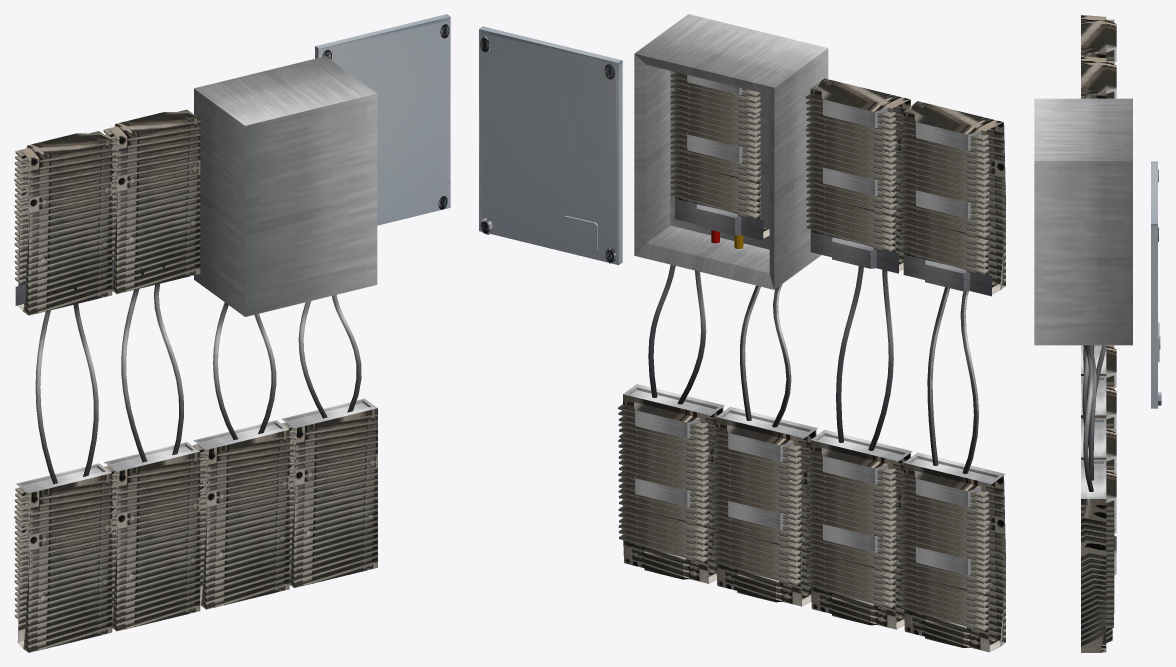
Rendered from ElectricWALLStuff.fbx.
3 views of the same model, side by side, from view 1: azimuth 30°, elevation 25°; view 2: azimuth 150°, elevation 25°; view 3: azimuth 270°, elevation 25° (orthographic). The views are drawn at different scales.
Visible parts, largest first — view 1: Cube.361, Cube.366, Cube.364, Cube.368, Cube.365, Cube.367, Cube.259, BezierCurve, BezierCurve.001, BezierCurve.006, BezierCurve.005; view 2: Cube.361, Cube.366, Cube.364, Cube.368, Cube.365, Cube.367, Cube.259, Cube.360, BezierCurve.001, BezierCurve, BezierCurve.006, BezierCurve.005; view 3: Cube.361, Cube.367, Cube.364, Cube.259, BezierCurve.005, Cube.368, Cube.365, Cube.366, BezierCurve.006.
Part boxes in pixels (x1,y1,x2,y2): Cube.361: (194,14,450,316); Cube.366: (14,463,112,652); Cube.364: (14,131,112,315); Cube.368: (193,420,289,609); Cube.365: (104,442,200,631); Cube.367: (281,398,377,587); Cube.259: (103,109,200,293); BezierCurve: (121,263,183,462); BezierCurve.001: (35,285,98,484); BezierCurve.006: (213,302,276,440); BezierCurve.005: (298,294,361,418); Cube.361: (479,14,828,289); Cube.366: (899,452,1005,652); Cube.364: (899,101,1005,296); Cube.368: (711,407,817,606); Cube.365: (805,430,912,629); Cube.367: (618,384,724,583); Cube.259: (805,78,910,273); Cube.360: (670,71,769,240); BezierCurve.001: (927,287,978,473); BezierCurve: (836,266,893,450); BezierCurve.006: (740,284,791,427); BezierCurve.005: (648,265,706,404); Cube.361: (1034,98,1161,408); Cube.367: (1081,459,1116,652); Cube.364: (1081,15,1116,63); Cube.259: (1081,56,1116,98); BezierCurve.005: (1083,345,1096,491); Cube.368: (1081,418,1116,533); Cube.365: (1081,376,1116,474); Cube.366: (1081,345,1116,432); BezierCurve.006: (1082,345,1106,447).
Size of the model in its own units: 420 by 436 by 105.
Materials: 6 (4 with a texture image).
